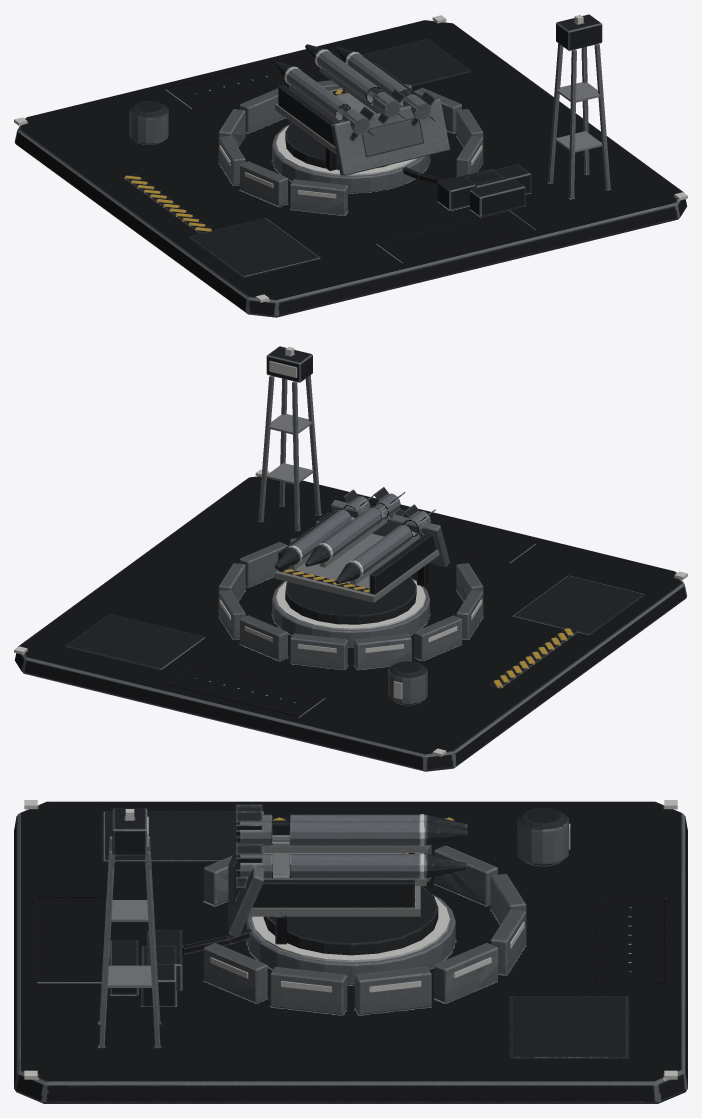
Rendered from chs_scourge.fbx.
The picture shows the model from 3 angles, top to bottom: view 1: azimuth 30°, elevation 25°; view 2: azimuth 150°, elevation 25°; view 3: azimuth 270°, elevation 25°; orthographic projection. The views are drawn at different scales.
Visible parts, largest first — view 1: base_bar, launcher_bar, base_glow_power_bar, base_glow_running_bar; view 2: base_bar, launcher_bar, base_glow_running_bar, base_glow_power_bar; view 3: base_bar, launcher_bar, base_glow_power_bar, base_glow_running_bar.
Part boxes in pixels (x1=…): base_bar: x1=14, y1=14, x2=687, y2=317; launcher_bar: x1=274, y1=44, x2=449, y2=175; base_glow_power_bar: x1=276, y1=126, x2=417, y2=175; base_glow_running_bar: x1=14, y1=15, x2=687, y2=302; base_bar: x1=14, y1=346, x2=686, y2=771; launcher_bar: x1=274, y1=487, x2=449, y2=624; base_glow_running_bar: x1=14, y1=346, x2=687, y2=756; base_glow_power_bar: x1=276, y1=580, x2=425, y2=699; base_bar: x1=14, y1=801, x2=687, y2=1103; launcher_bar: x1=228, y1=804, x2=467, y2=955; base_glow_power_bar: x1=252, y1=823, x2=570, y2=961; base_glow_running_bar: x1=24, y1=800, x2=677, y2=1079.
Size of the model in its own units: 2317 by 1130 by 2317.
Materials: 2 (2 with a texture image).
